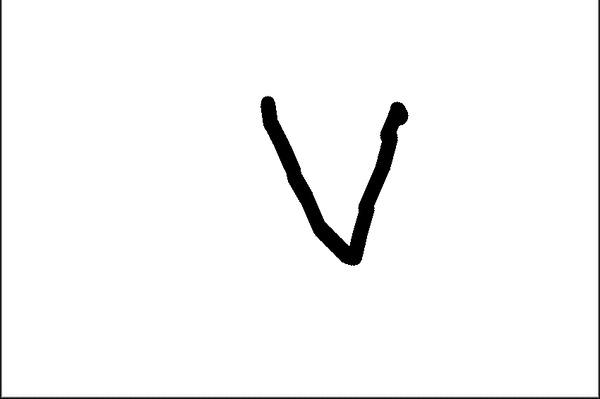V: (255, 84, 413, 268)
